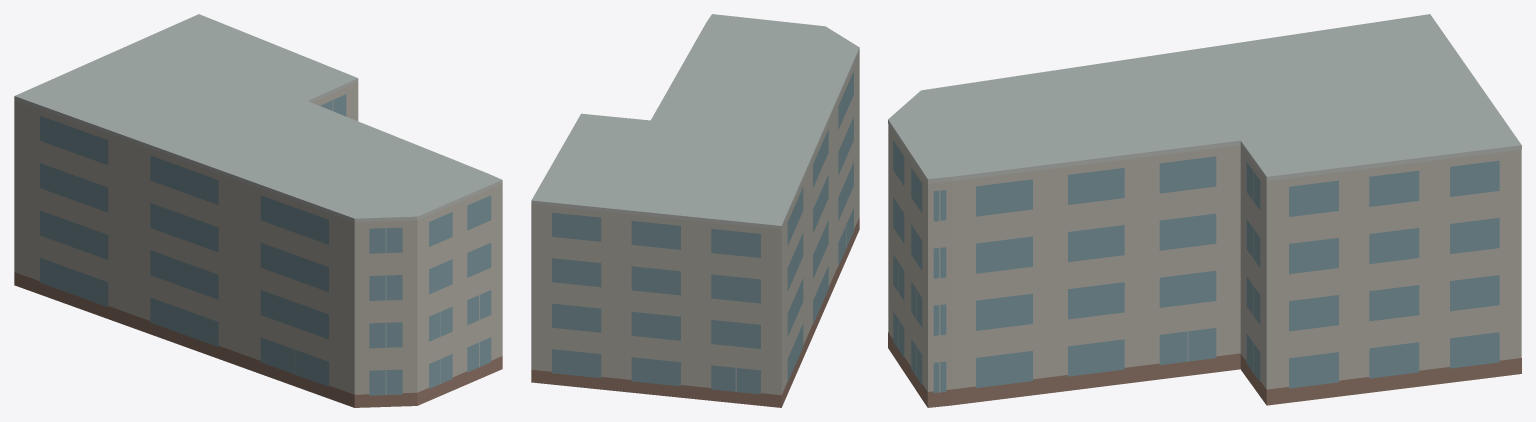
The model's file is survey-upis-32635724.glb.
3 views of the same model, side by side, from view 1: azimuth 30°, elevation 25°; view 2: azimuth 150°, elevation 25°; view 3: azimuth 270°, elevation 25° (orthographic). The views are drawn at different scales.
Visible parts, largest first — view 1: survey-upis-32635724.tmp; view 2: survey-upis-32635724.tmp; view 3: survey-upis-32635724.tmp.
Part boxes in pixels (left/top/right/bottom): survey-upis-32635724.tmp: left=14, top=14, right=502, bottom=407; survey-upis-32635724.tmp: left=531, top=14, right=859, bottom=407; survey-upis-32635724.tmp: left=888, top=14, right=1521, bottom=407.
Bounding box in the file's own units: 19.22 × 12.4 × 31.15.
